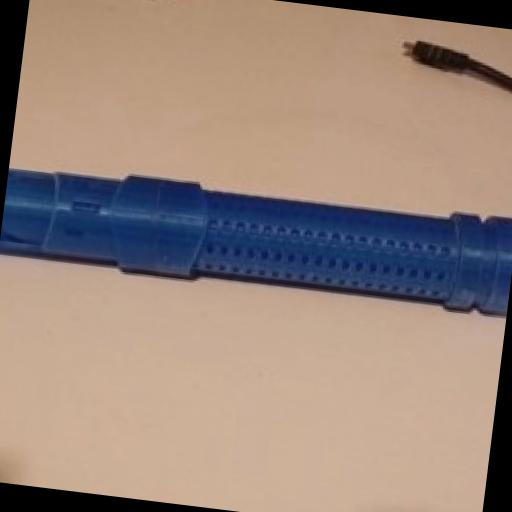lightsaber: (1, 171, 512, 312)
